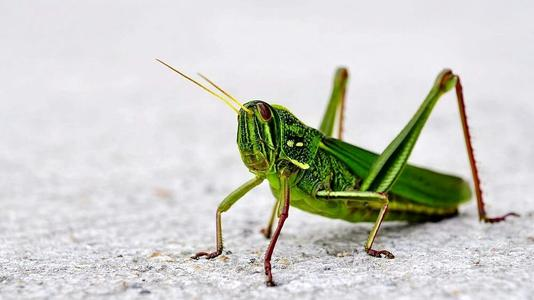huangchong: (201, 63, 512, 262)
